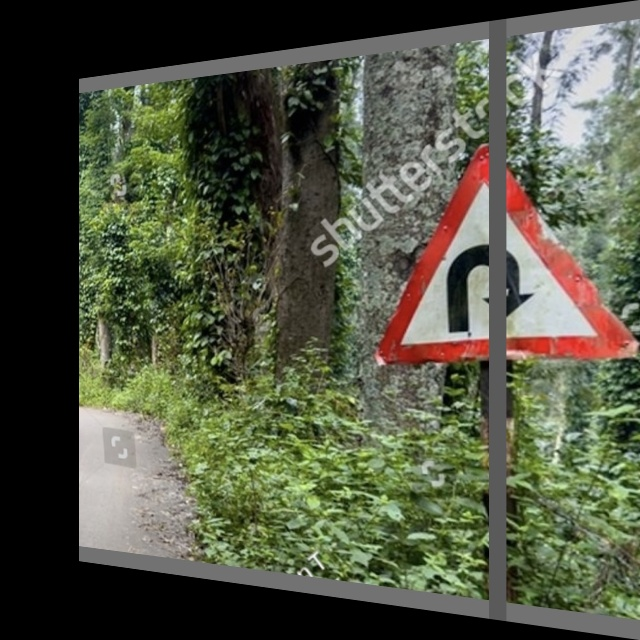Right_Hair_Pin_Bend: (386, 130, 639, 359)
